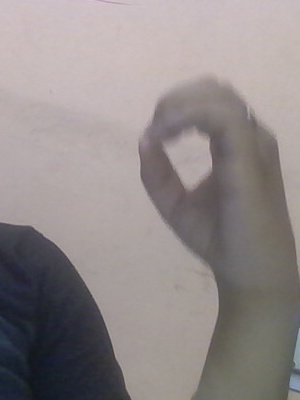O: (114, 67, 295, 327)
